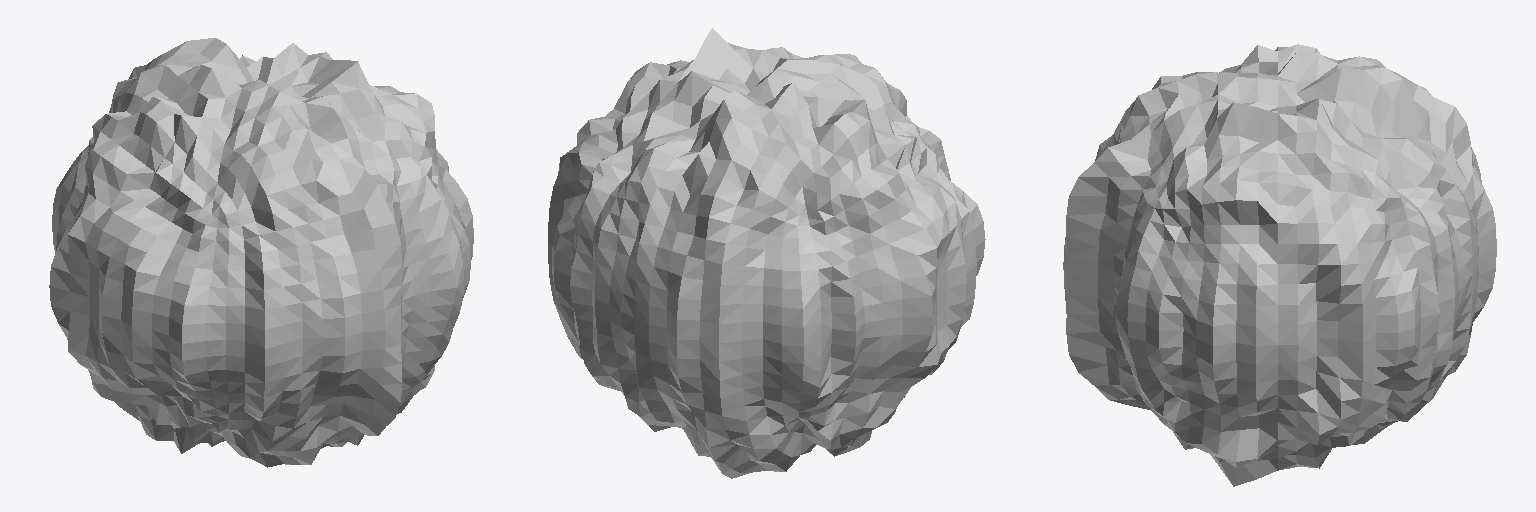
The model's file is asteroid5.obj.
The picture shows the model from 3 angles: view 1: azimuth 30°, elevation 25°; view 2: azimuth 150°, elevation 25°; view 3: azimuth 270°, elevation 25°; orthographic projection.
Visible parts, largest first — view 1: Cube_Cube.002; view 2: Cube_Cube.002; view 3: Cube_Cube.002.
Boxes of the visible parts, x1=… form: Cube_Cube.002: x1=49, y1=38, x2=473, y2=467; Cube_Cube.002: x1=548, y1=28, x2=985, y2=478; Cube_Cube.002: x1=1063, y1=44, x2=1496, y2=486.
Size of the model in its own units: 1.85 by 1.83 by 1.87.